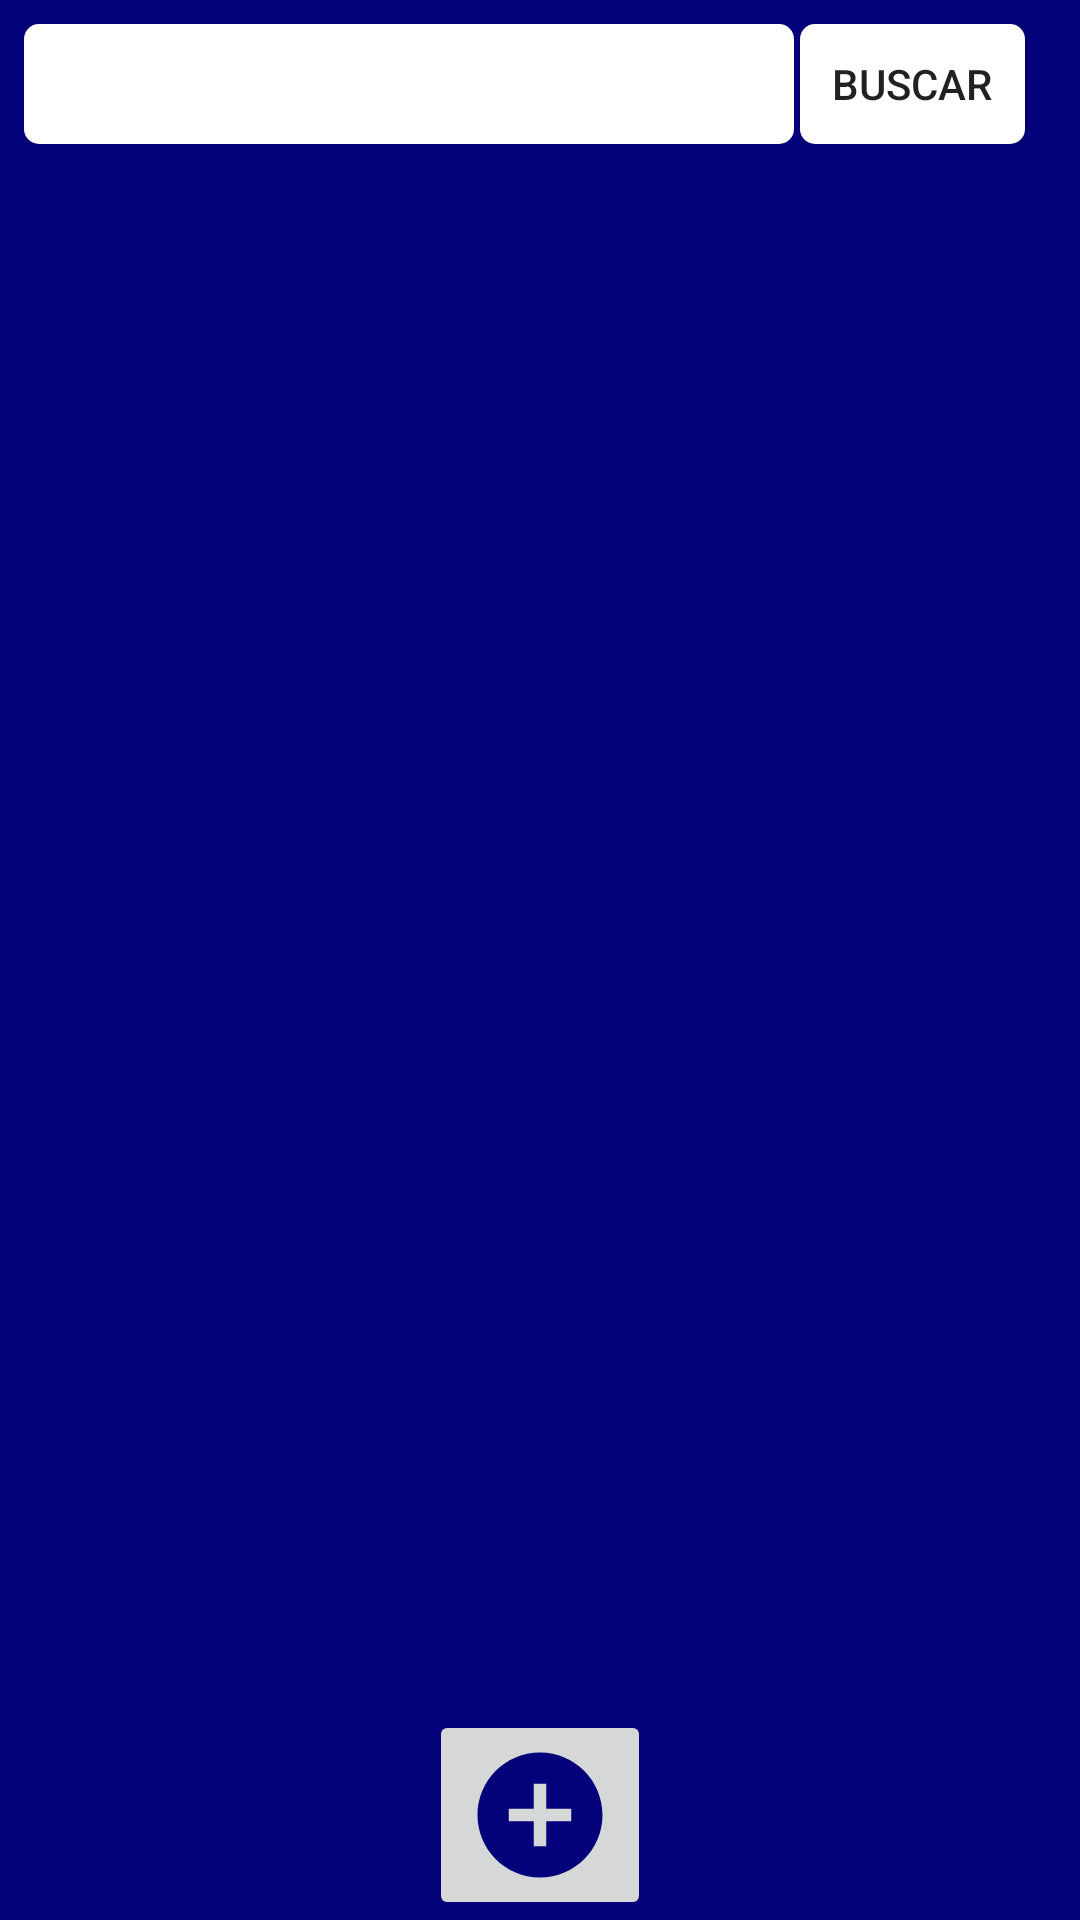

Screen size 1080w x 1920h. Icon name, then its center in pixels as (x,y):
Adicionar: (540,1815)
